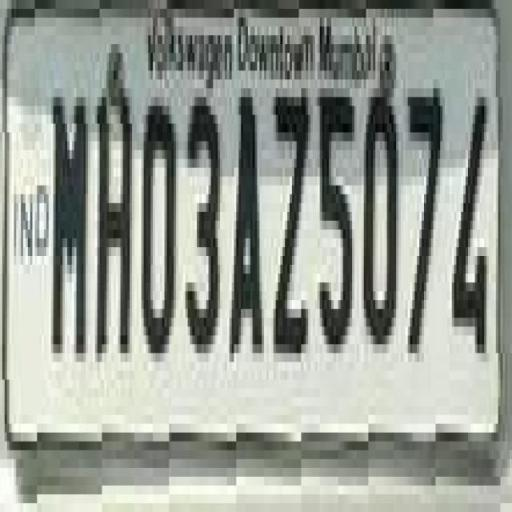number plate: (13, 0, 512, 468)
